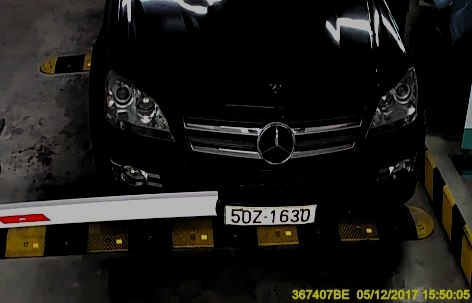plate: (221, 197, 318, 227)
